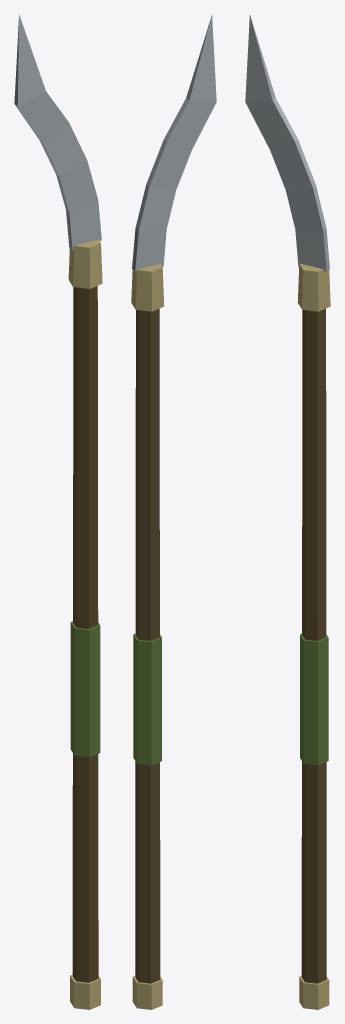
Rendered from weapon_naginata.glb.
3 renders of one model, left to right at view 1: azimuth 30°, elevation 25°; view 2: azimuth 210°, elevation 25°; view 3: azimuth 330°, elevation 25°, orthographic. The views are drawn at different scales.
Visible parts, largest first — view 1: elf_weapon_naginata; view 2: elf_weapon_naginata; view 3: elf_weapon_naginata.
Part boxes in pixels (<box>): elf_weapon_naginata: <box>14,14,102,1009</box>; elf_weapon_naginata: <box>131,15,216,1009</box>; elf_weapon_naginata: <box>245,15,330,1009</box>.
Bounding box in the file's own units: 0.1824 × 2.08 × 0.0638.
